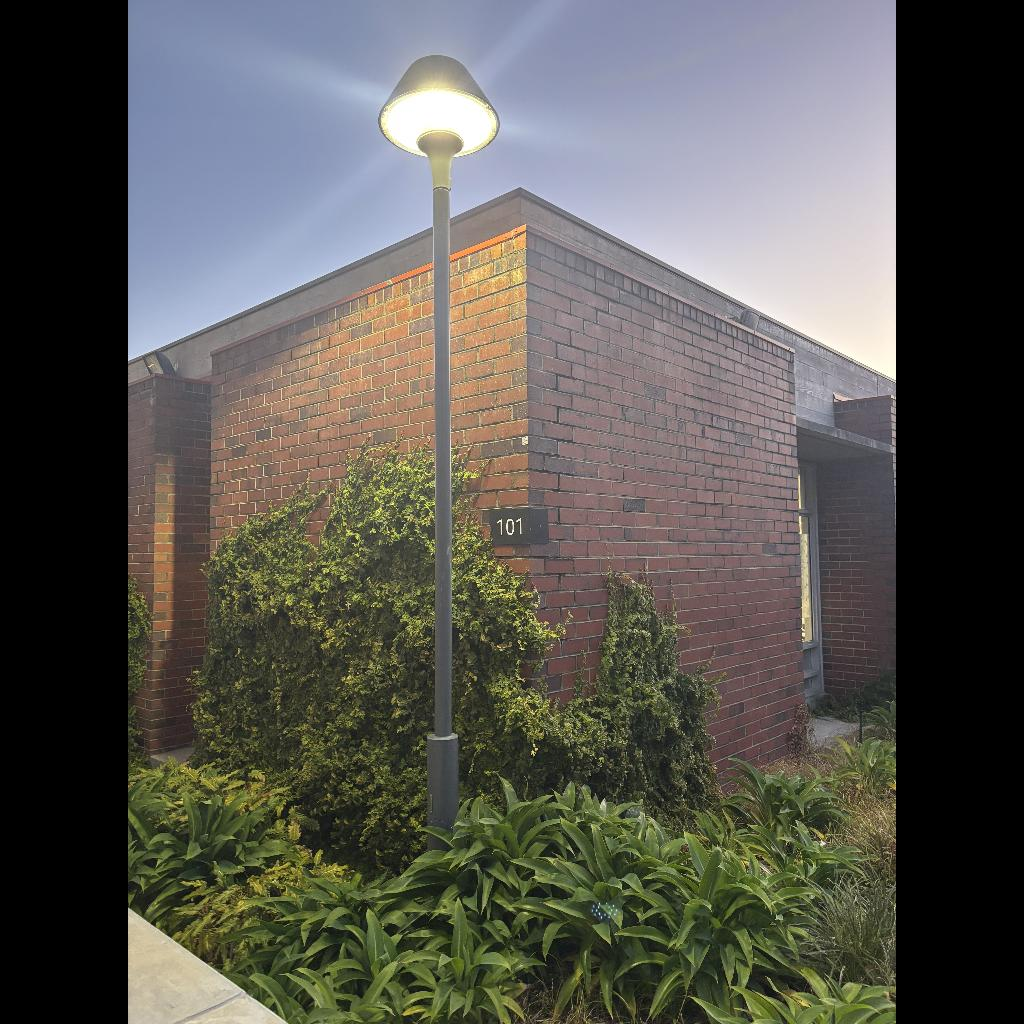BuildingCodes: (494, 516, 524, 538)
